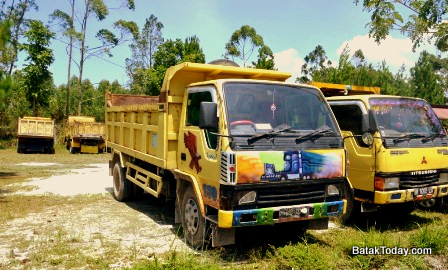truck: (101, 62, 349, 252), (313, 77, 448, 216), (16, 109, 57, 158), (63, 114, 108, 155)
